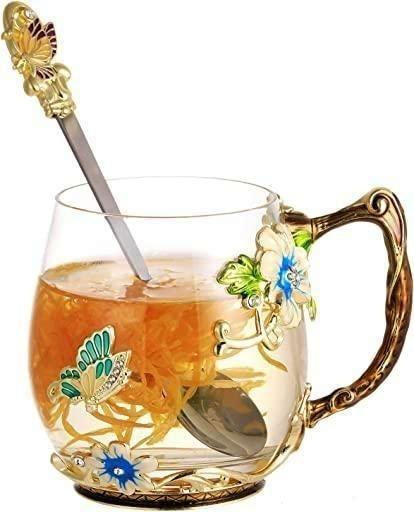glass-mug: (25, 171, 414, 512)
